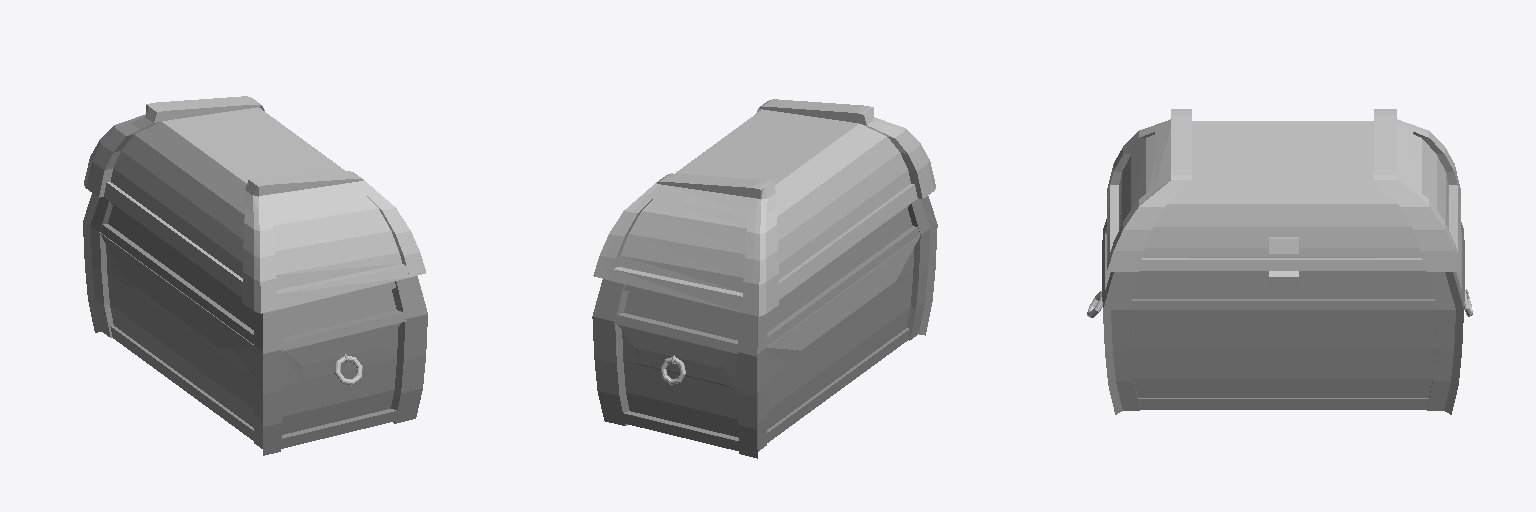
File: Chest_0.obj
3 renders of one model, left to right at view 1: azimuth 30°, elevation 25°; view 2: azimuth 150°, elevation 25°; view 3: azimuth 270°, elevation 25°, orthographic.
Parts seen in each view (by area): view 1: Cube, Cube.001; view 2: Cube, Cube.001; view 3: Cube.001, Cube, Cube.002.
Part boxes in pixels (x1,y1,x2,y2): Cube: (83,193,427,455); Cube.001: (84,96,425,313); Cube: (592,196,937,458); Cube.001: (593,99,935,316); Cube.001: (1107,109,1460,271); Cube: (1102,219,1464,414); Cube.002: (1269,237,1298,289).
Size of the model in its own units: 2.48 by 3.42 by 4.93.